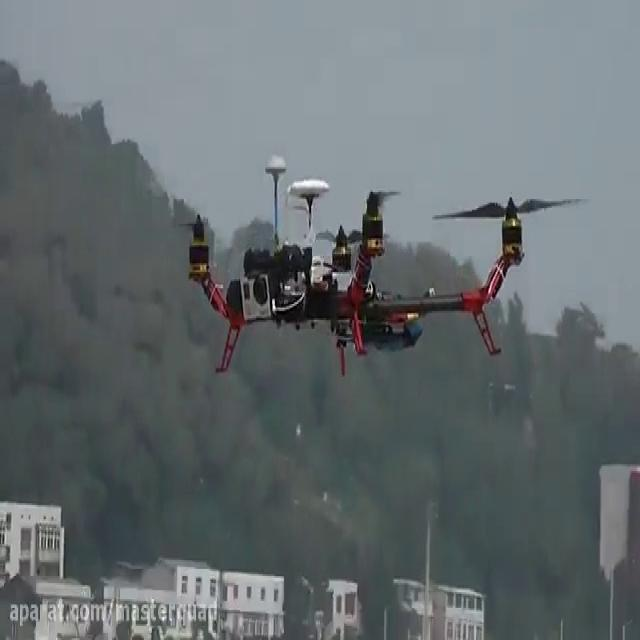drone: (164, 151, 594, 379)
